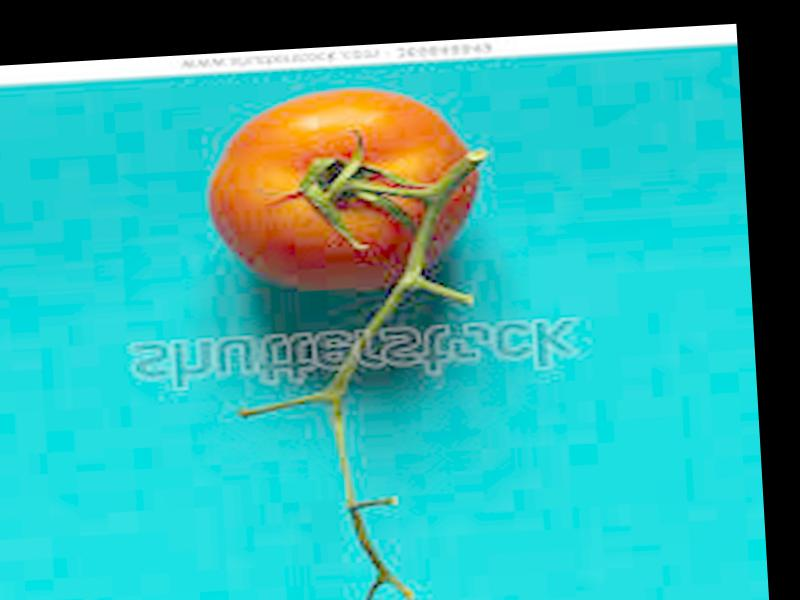Tomato: (204, 85, 486, 292)
